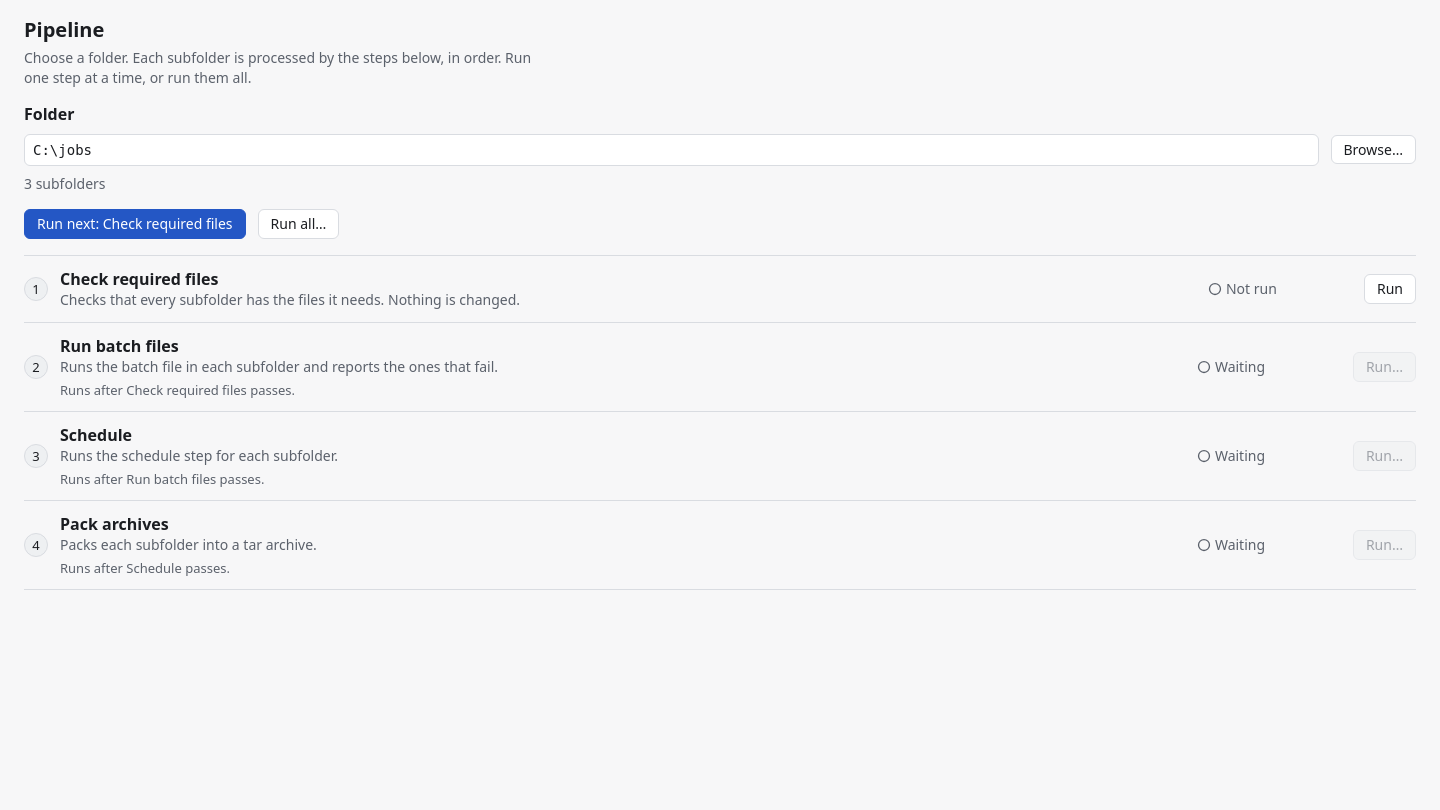
Test: a step started from its own button does not show run next as busy
Check: the field labelled "Folder" is shown, box [24,134,1318,166]
Click the button with aria-label "Run Check required files": (1390, 289) [1364,274,1416,304]
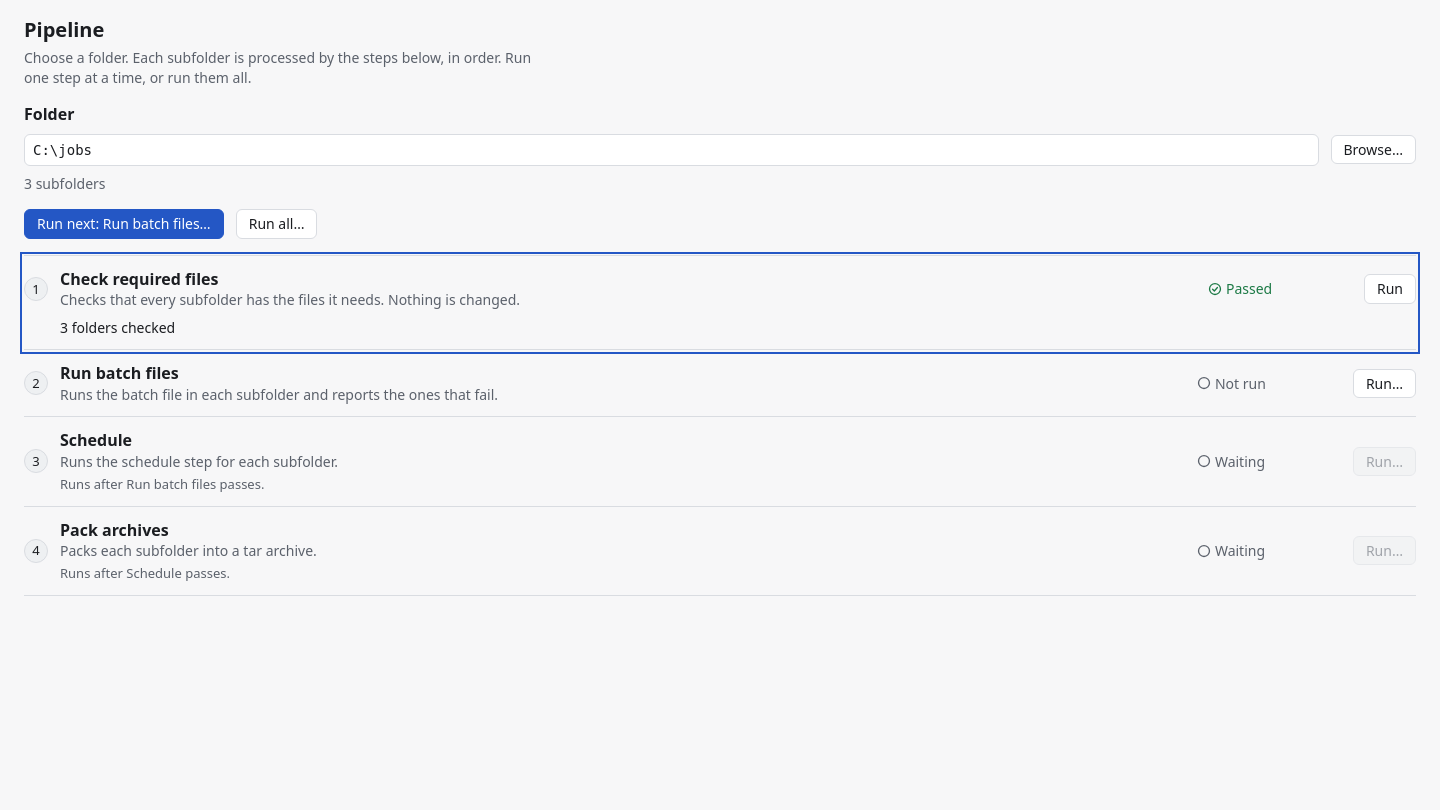
Check: the text "Passed" is shown, box [1208,279,1272,298]
